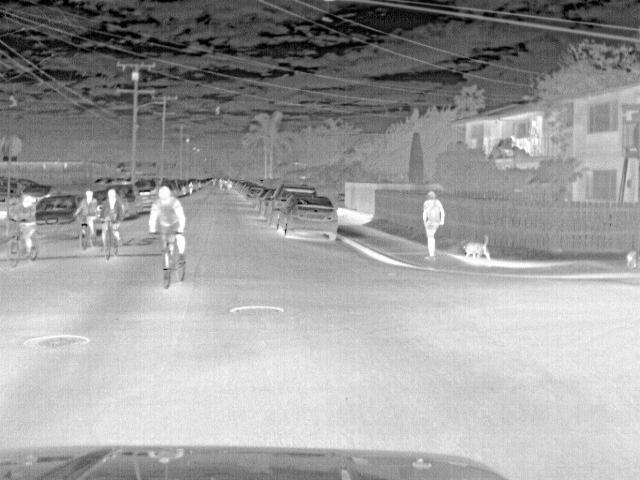car: (281, 191, 342, 246), (33, 194, 83, 241), (272, 183, 321, 226), (259, 188, 276, 218), (244, 186, 264, 202)
dog: (460, 234, 494, 264), (624, 250, 639, 268)
person: (145, 184, 187, 271), (8, 186, 38, 251), (420, 188, 446, 262), (98, 185, 124, 242), (74, 190, 100, 234)
